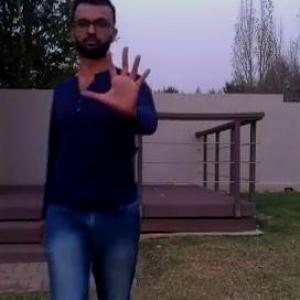follow_hand: (79, 39, 158, 117)
